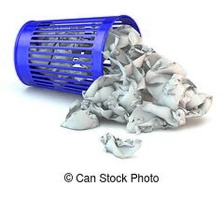book: (77, 22, 221, 140), (88, 126, 152, 162), (51, 94, 101, 130)
